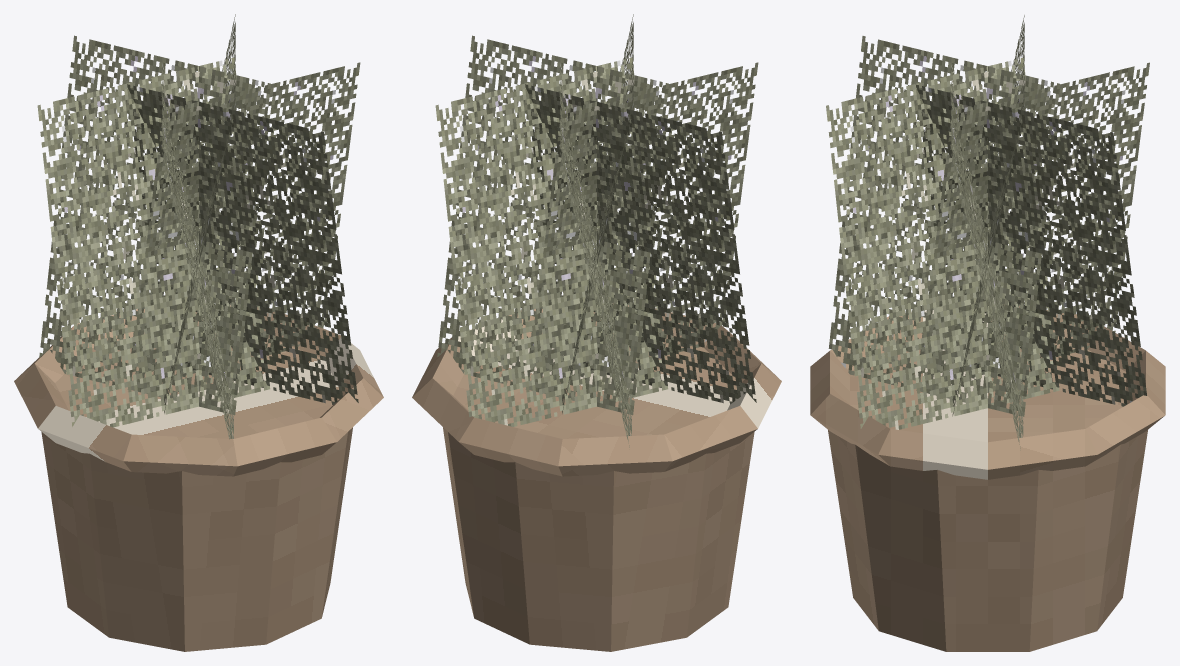
The model's file is flower_pot_e.glb.
The picture shows the model from 3 angles, left to right: view 1: azimuth 30°, elevation 25°; view 2: azimuth 150°, elevation 25°; view 3: azimuth 270°, elevation 25°; orthographic projection.
Visible parts, largest first — view 1: body; view 2: body; view 3: body.
Part boxes in pixels (<box>): body: <box>14,14,383,651</box>; body: <box>412,14,781,651</box>; body: <box>810,15,1165,651</box>.
Bounding box in the file's own units: 0.36 × 0.5463 × 0.3424.
Materials: 3 (2 with a texture image).
